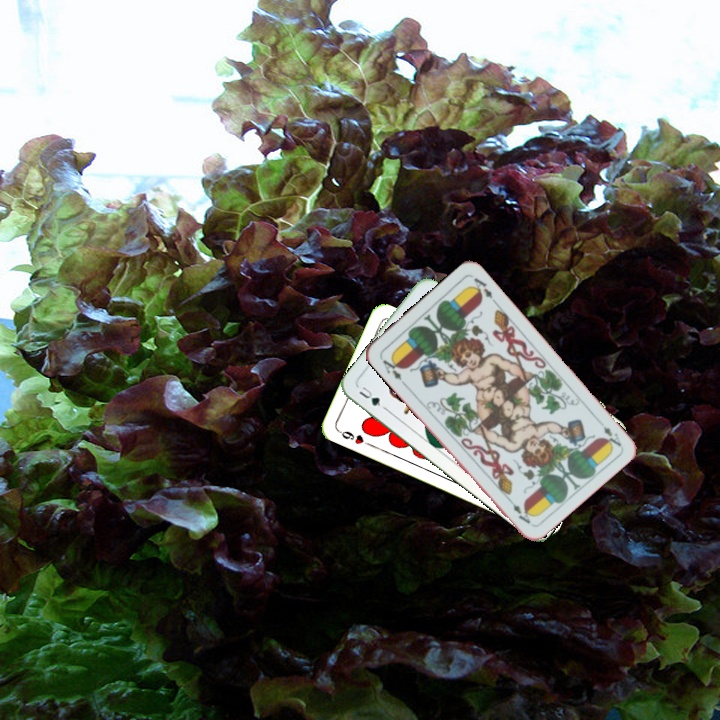EA: (376, 353, 407, 387), (599, 421, 624, 450)
GU: (355, 382, 389, 412)
H9: (334, 426, 373, 449)
